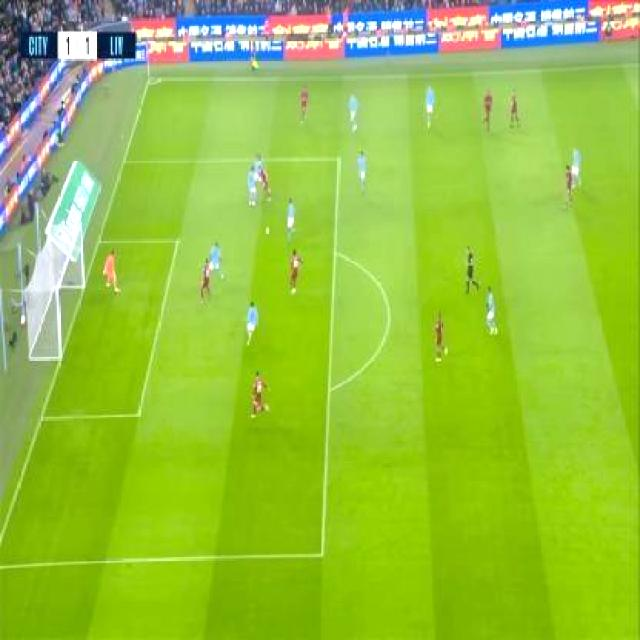bigarea_bottom_inner: (312, 538, 331, 570)
bigarea_top_inner: (334, 151, 344, 169)
bigarea_top_outter: (122, 156, 129, 167)
bottom_arc_area_intersection: (325, 378, 337, 400)
corner: (148, 76, 160, 84)
smallarea_bottom_inner: (132, 404, 145, 424)
smallarea_bottom_outter: (36, 409, 50, 425)
smallarea_top_inner: (172, 232, 182, 250)
smallarea_top_outter: (94, 232, 105, 251)
top_arc_area_intersection: (331, 242, 343, 263)
